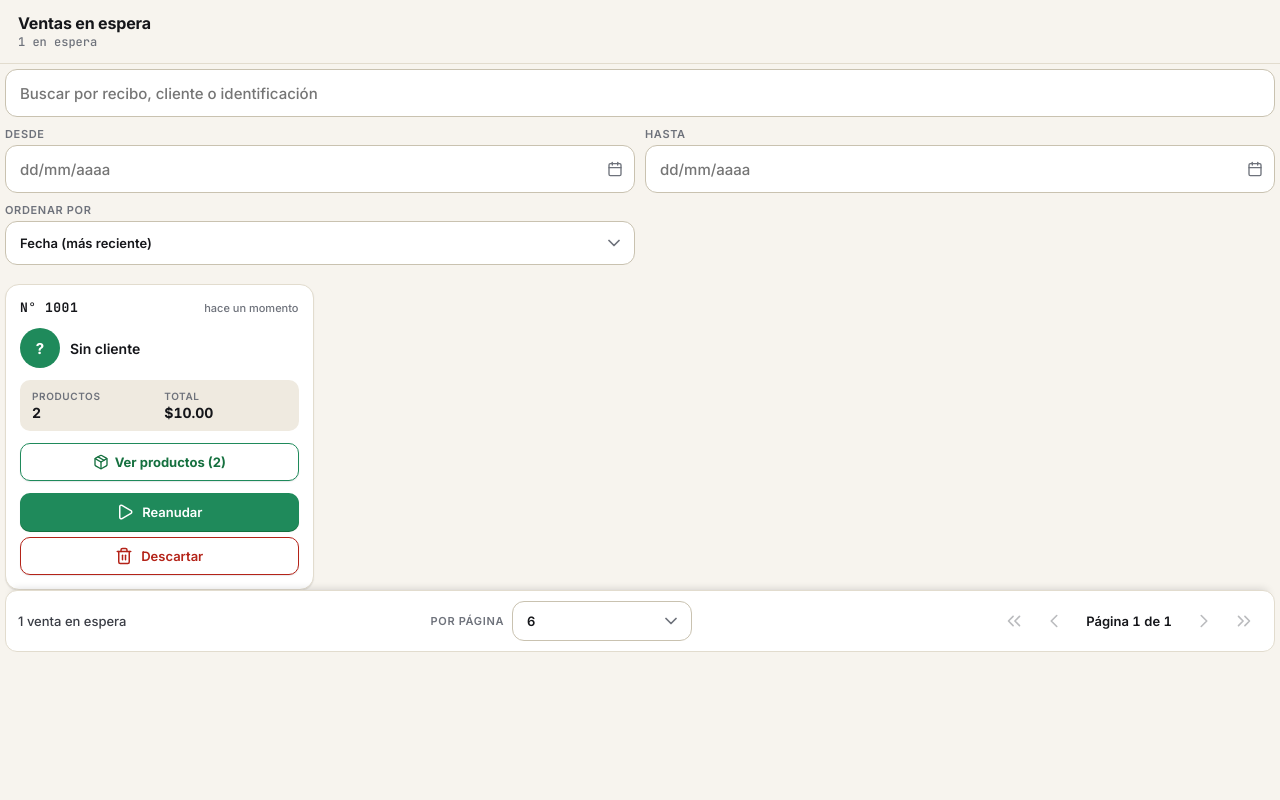
StoredCartsScreen — resume guard › the detail-sheet Reanudar goes through the same guard
Click the button "Ver productos (2)" at (159, 462), box [20, 443, 298, 481]
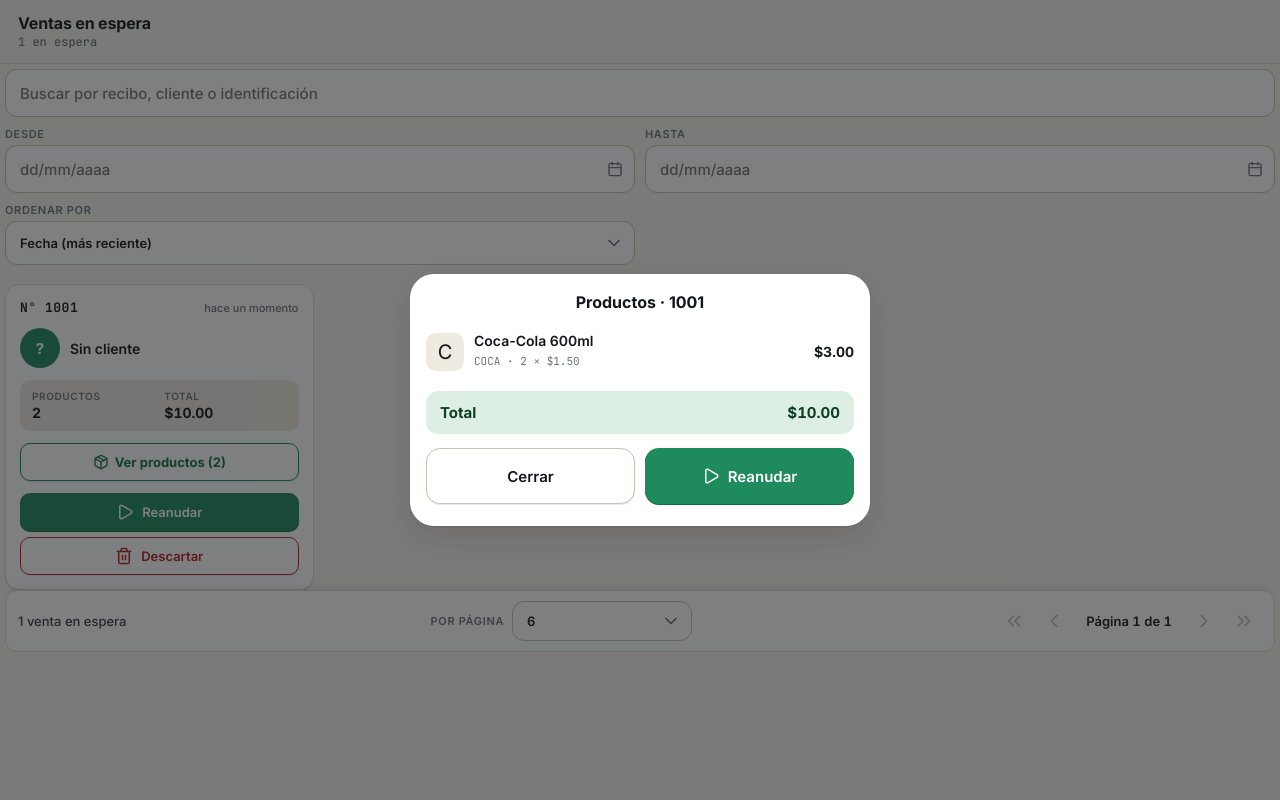
Click the button "Reanudar" at (750, 476), box [645, 448, 854, 504]
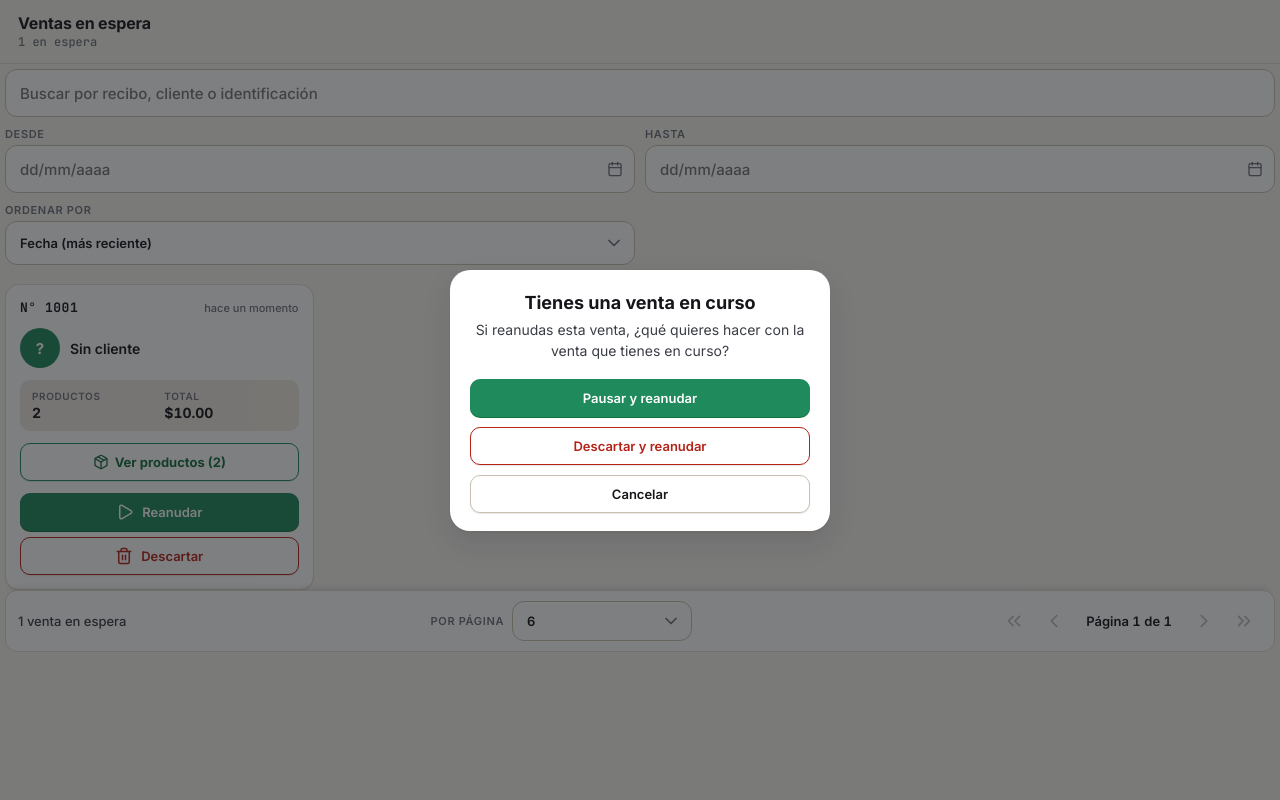
Result: the text "Tienes una venta en curso" is shown at [524, 292, 756, 312]
